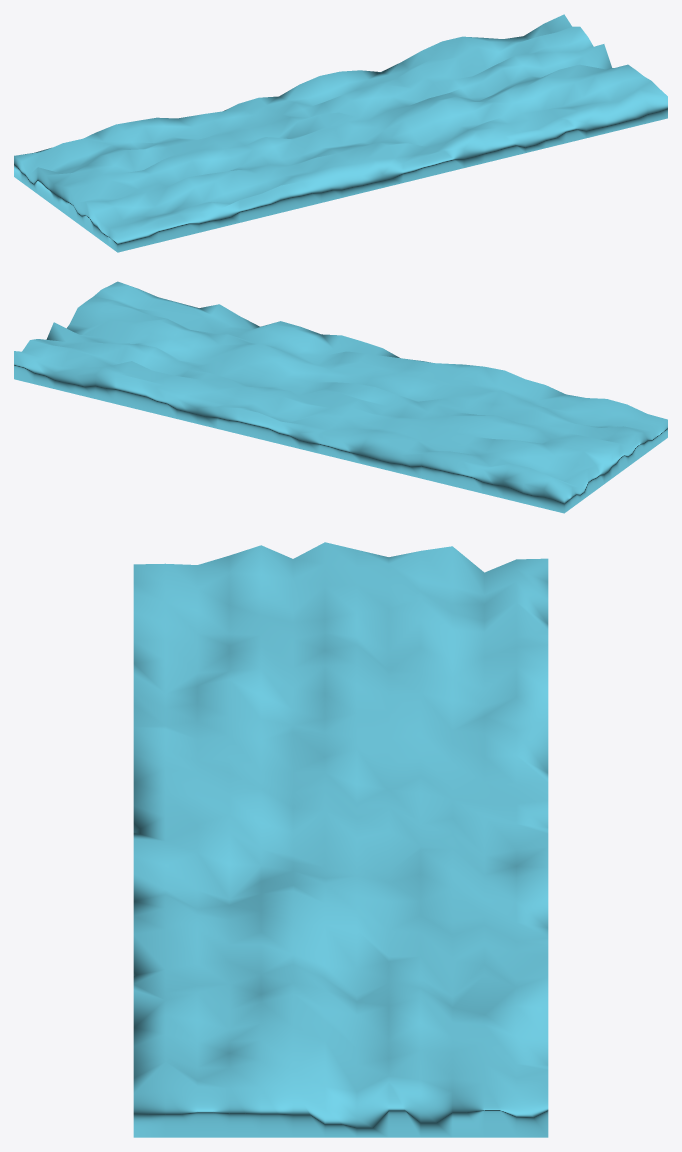
3 renders of one model, top to bottom at view 1: azimuth 30°, elevation 25°; view 2: azimuth 150°, elevation 25°; view 3: azimuth 270°, elevation 25°, orthographic. The views are drawn at different scales.
Visible parts, largest first — view 1: River; view 2: River; view 3: River.
Boxes of the visible parts, box(x1,y1,x2,y2) form: River: box(14, 14, 667, 252); River: box(14, 281, 667, 513); River: box(133, 542, 548, 1137).
Size of the model in its own units: 7395 by 434 by 2412.
